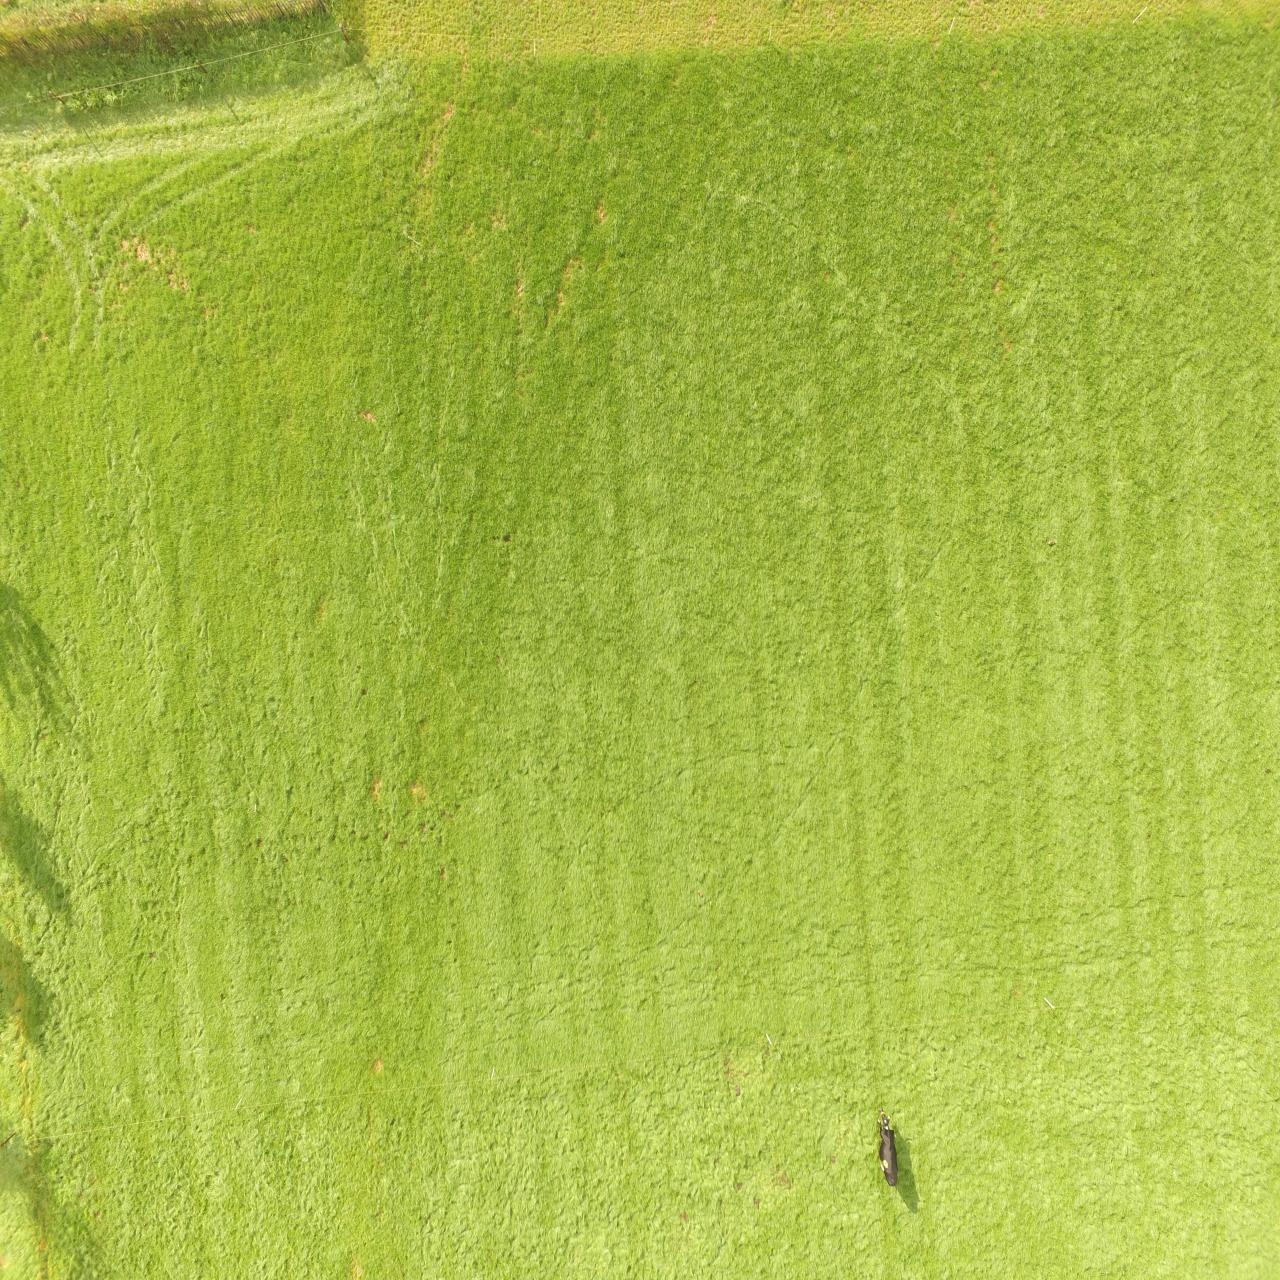cow: (872, 1107, 902, 1190)
